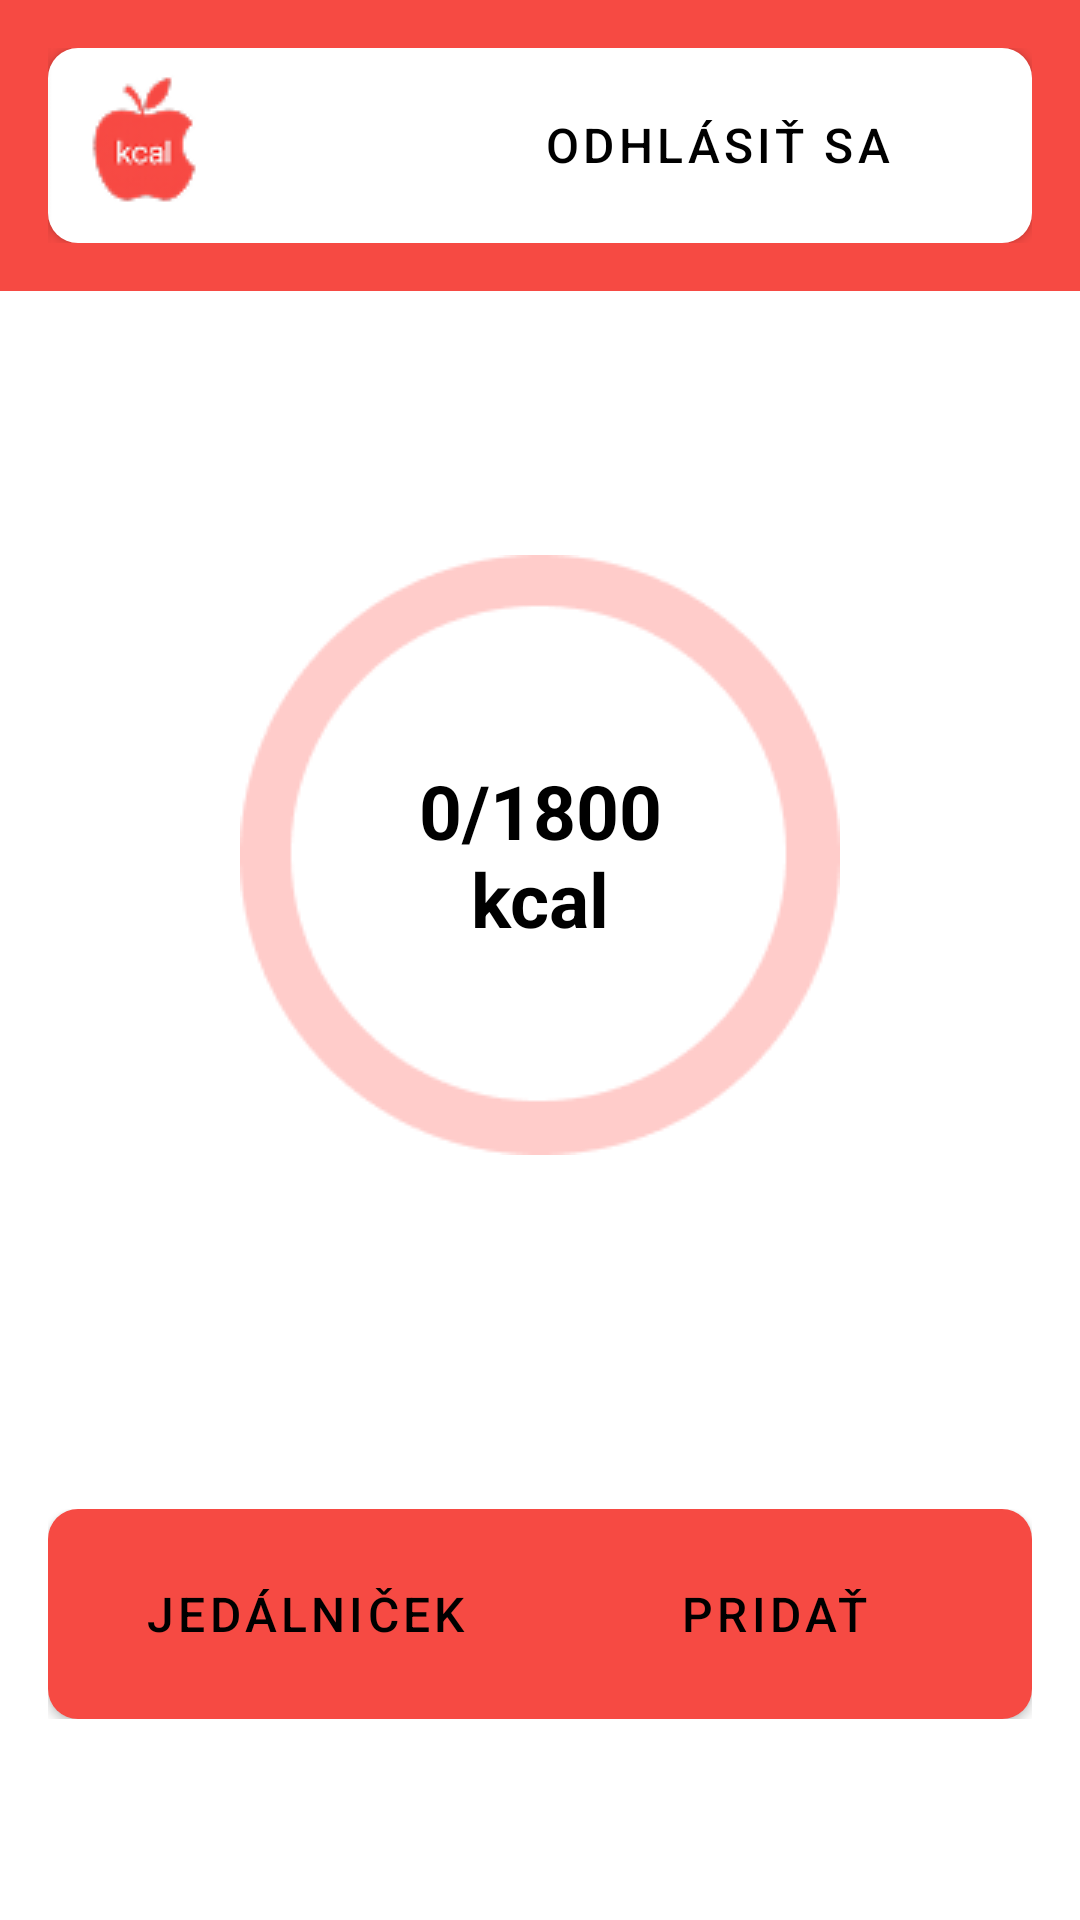

Locate icon controls on the screen. Image size 1080 x 1920, boxes as (x1, y1, x2, y2).
calio: (48, 48, 243, 243)
